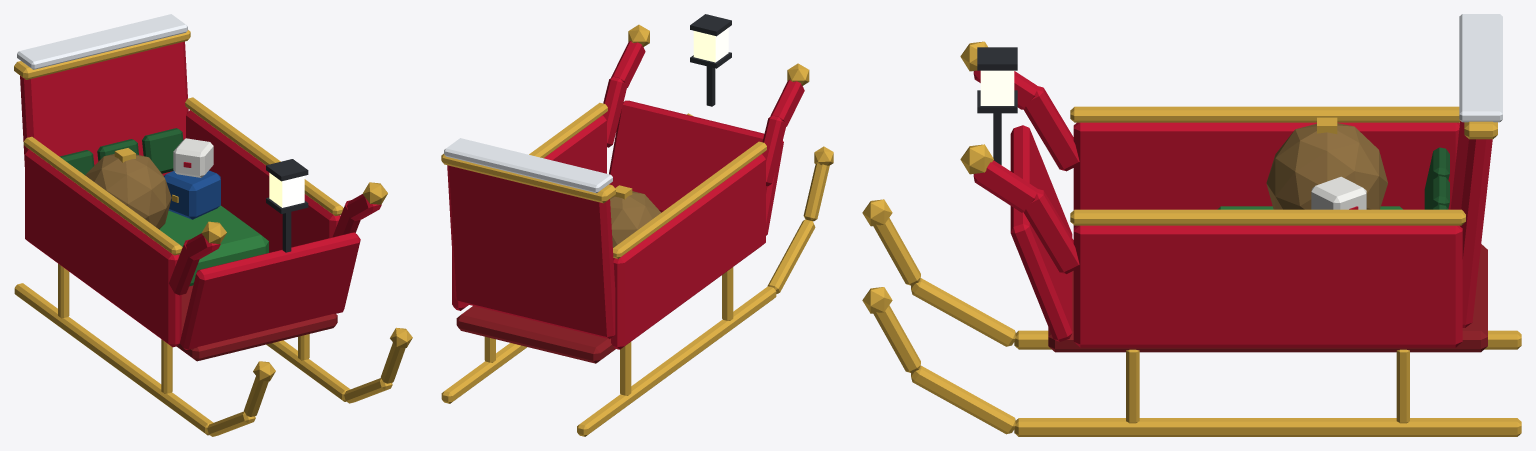
File: sleigh.glb
3 views of the same model, side by side, from view 1: azimuth 30°, elevation 25°; view 2: azimuth 150°, elevation 25°; view 3: azimuth 270°, elevation 25° (orthographic). The views are drawn at different scales.
Visible parts, largest first — view 1: sleigh; view 2: sleigh; view 3: sleigh.
Boxes of the visible parts, x1=… form: sleigh: x1=14, y1=14, x2=412, y2=436; sleigh: x1=441, y1=14, x2=833, y2=436; sleigh: x1=862, y1=14, x2=1521, y2=436.
Size of the model in its own units: 1.62 by 2.19 by 3.9.
